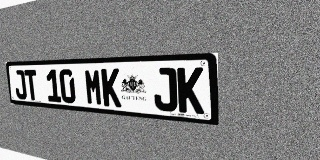0: (59, 69, 76, 104)
1: (45, 69, 61, 102)
J: (153, 68, 178, 112), (13, 70, 27, 100)
K: (177, 67, 204, 114), (101, 68, 121, 107)
M: (84, 69, 103, 106)
T: (24, 70, 39, 101)
